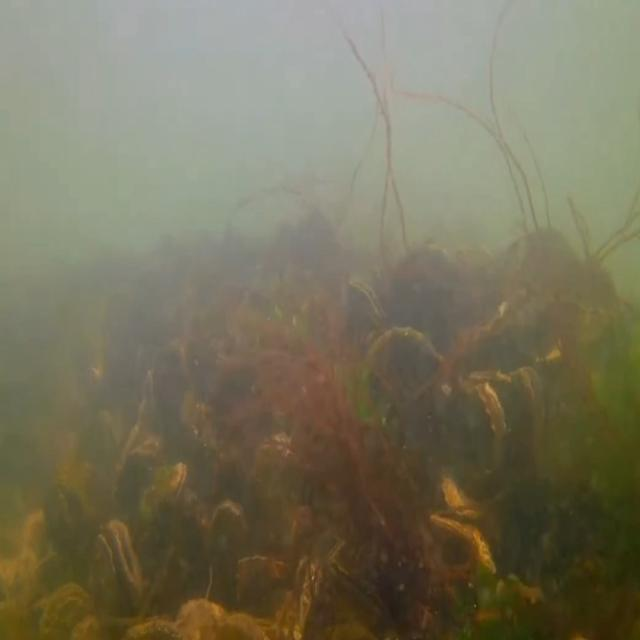Oyster-Closed: (428, 512, 498, 576), (345, 274, 387, 370), (441, 472, 502, 520), (136, 460, 188, 516)
Oyster-Indeterminate: (362, 324, 448, 412), (422, 378, 507, 461), (470, 362, 547, 448), (152, 335, 196, 455), (206, 499, 251, 596), (38, 578, 96, 640), (180, 386, 220, 469), (122, 369, 157, 463), (119, 432, 167, 476), (254, 425, 300, 466)
Oyster-Open: (92, 518, 144, 640), (293, 552, 325, 638)
